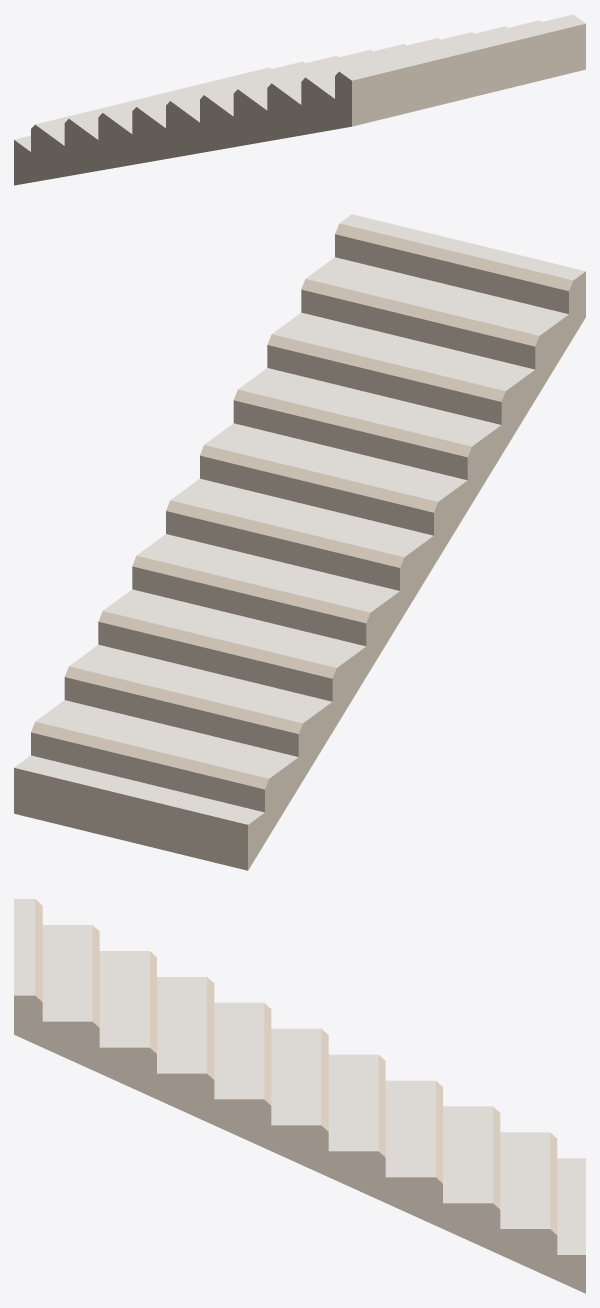
The model's file is Stairs_Steps_Straight.glb.
The picture shows the model from 3 angles, top to bottom: view 1: azimuth 30°, elevation 25°; view 2: azimuth 150°, elevation 25°; view 3: azimuth 270°, elevation 25°; orthographic projection. The views are drawn at different scales.
Parts seen in each view (by area): view 1: Stairs_Steps_Straight; view 2: Stairs_Steps_Straight; view 3: Stairs_Steps_Straight.
Boxes of the visible parts, bbox=[...] form: Stairs_Steps_Straight: bbox=[14, 14, 585, 185]; Stairs_Steps_Straight: bbox=[14, 214, 585, 870]; Stairs_Steps_Straight: bbox=[14, 899, 585, 1293].
Size of the model in its own units: 0.8 by 1.15 by 2.
